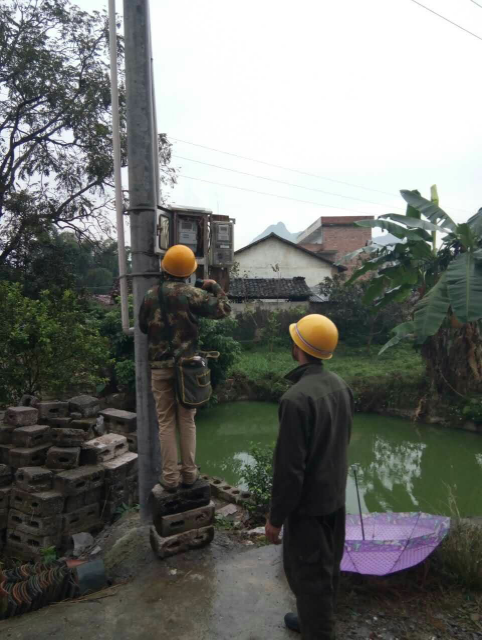downcloth: (278, 517, 346, 640), (148, 368, 202, 491)
halt: (288, 313, 339, 365), (159, 244, 199, 282)
hand: (264, 521, 282, 544), (200, 277, 216, 289)
outear: (290, 342, 304, 359)
person: (262, 310, 357, 641), (130, 240, 230, 513)
upcloth: (269, 372, 352, 515), (140, 282, 220, 357)
